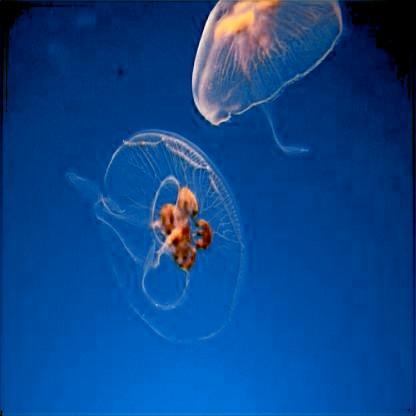Speckle: (64, 128, 248, 342), (191, 0, 343, 157)
